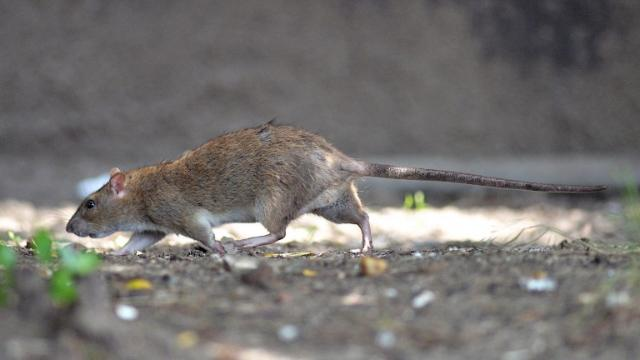rat: (49, 108, 611, 268)
